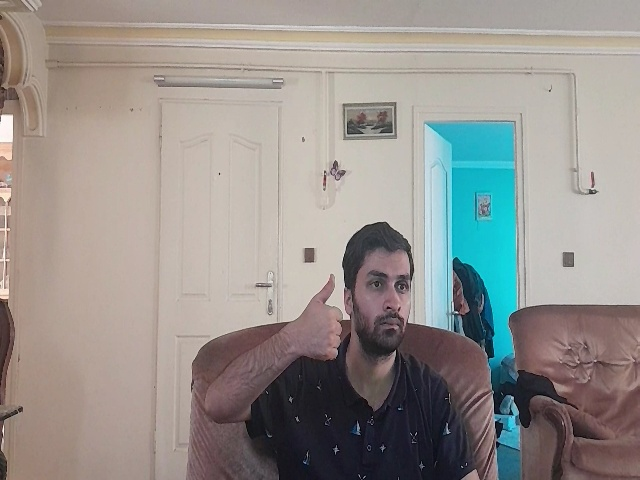ThumbsUp: (280, 274, 345, 361)
